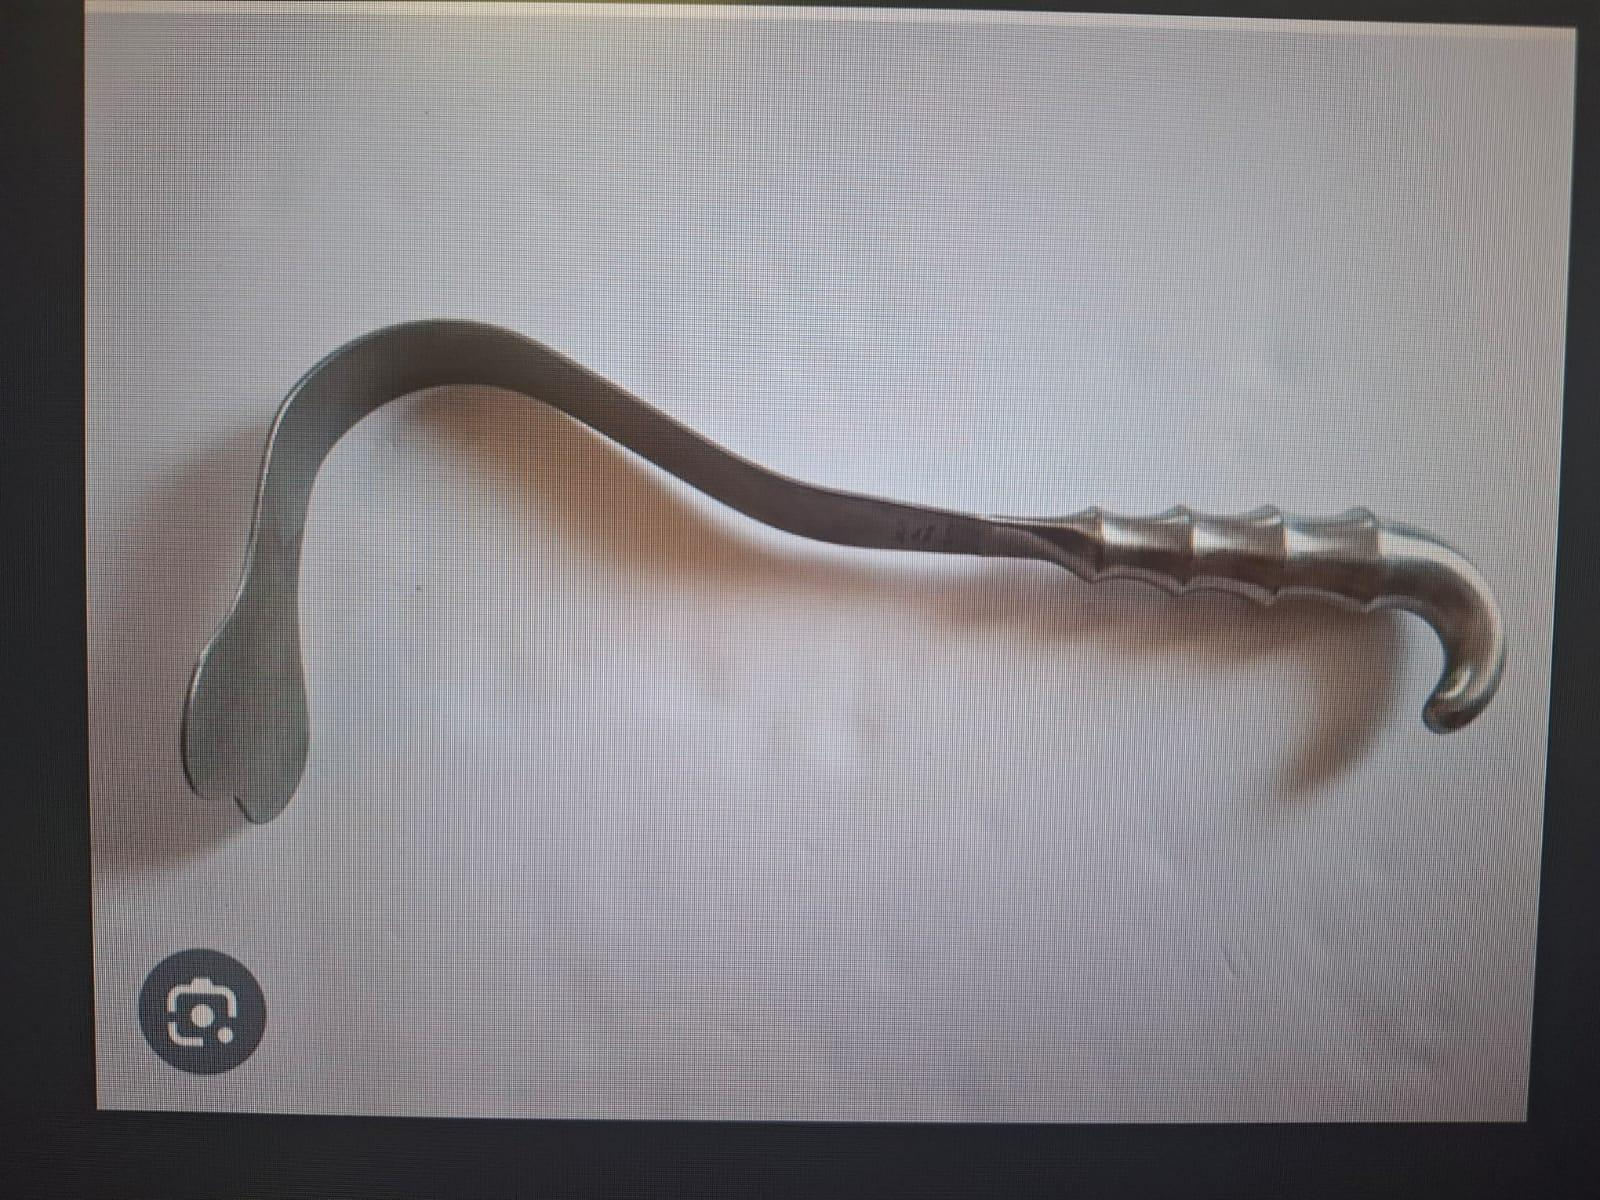Harrington Retractor: (156, 298, 1510, 850)
